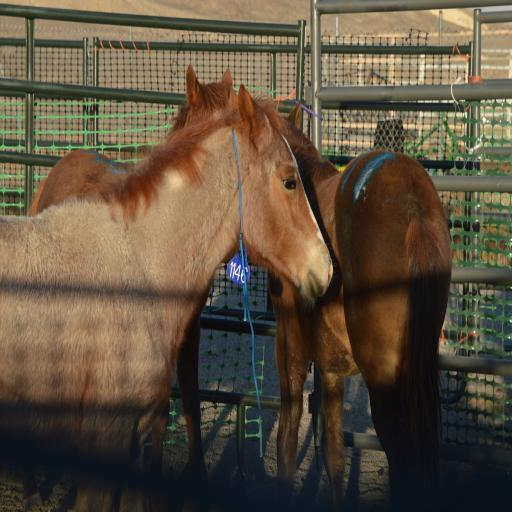horse: (0, 83, 333, 510), (26, 62, 234, 504), (266, 97, 454, 505)
